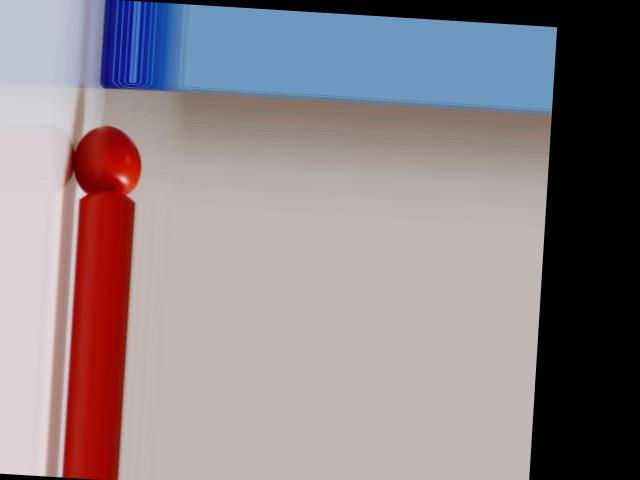tomato: (71, 124, 143, 195)
